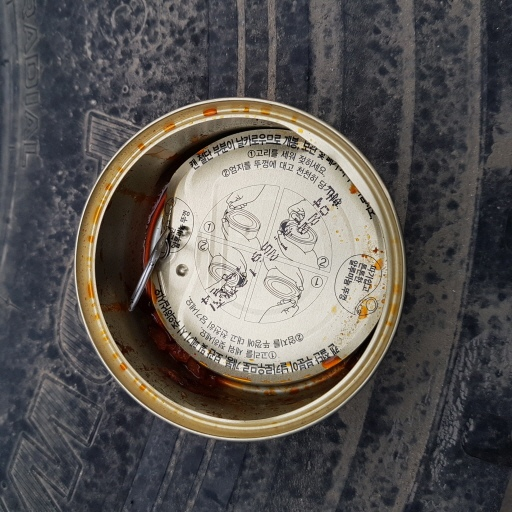Metal_1: (73, 93, 409, 444)
